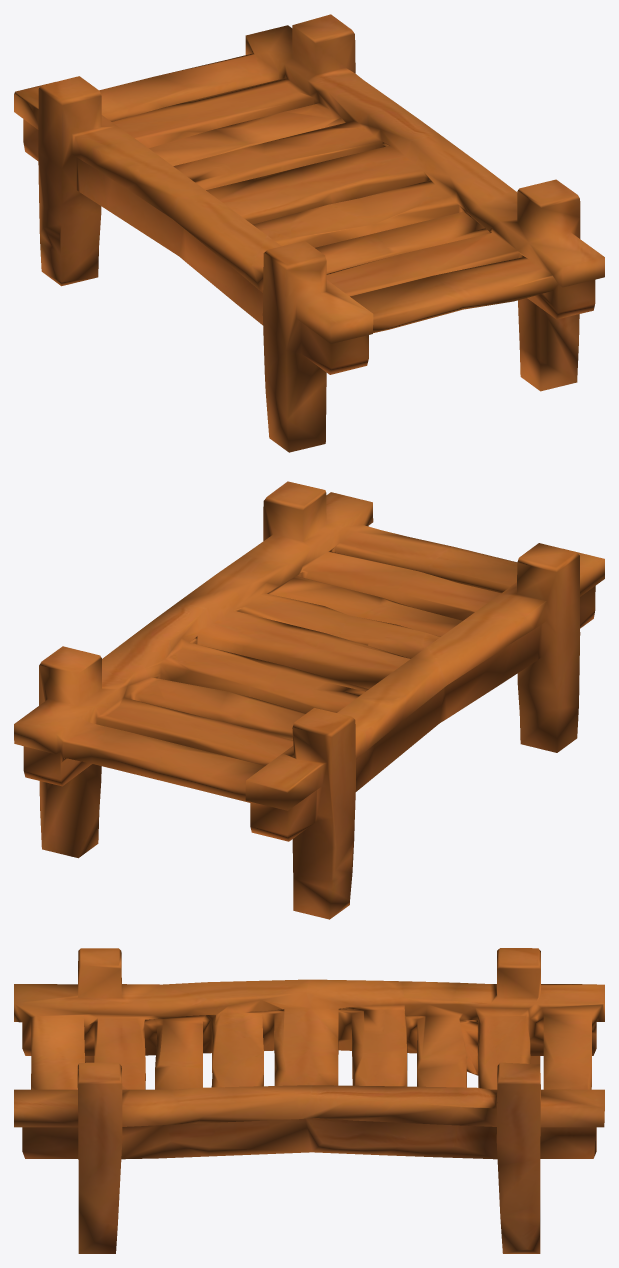
The model's file is bridge.glb.
3 renders of one model, top to bottom at view 1: azimuth 30°, elevation 25°; view 2: azimuth 150°, elevation 25°; view 3: azimuth 270°, elevation 25°, orthographic. The views are drawn at different scales.
Parts seen in each view (by area): view 1: tripo_node_b6b6f142-2122-44ce-bc66-c88500f6ad74; view 2: tripo_node_b6b6f142-2122-44ce-bc66-c88500f6ad74; view 3: tripo_node_b6b6f142-2122-44ce-bc66-c88500f6ad74.
Part boxes in pixels (left/top/right/bottom): tripo_node_b6b6f142-2122-44ce-bc66-c88500f6ad74: left=14, top=14, right=604, bottom=452; tripo_node_b6b6f142-2122-44ce-bc66-c88500f6ad74: left=14, top=481, right=604, bottom=919; tripo_node_b6b6f142-2122-44ce-bc66-c88500f6ad74: left=14, top=948, right=604, bottom=1253.
Bounding box in the file's own units: 2.41 × 1.47 × 4.5.
Materials: 1 (1 with a texture image).
